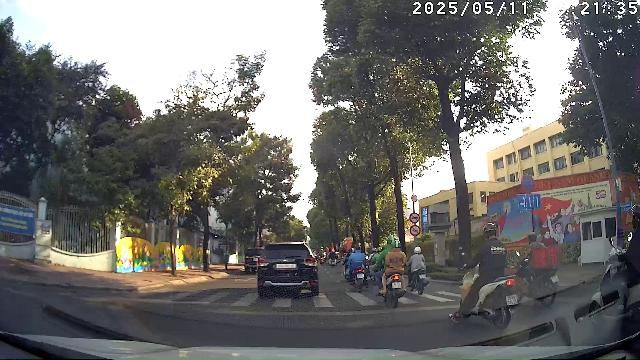128-cam-su-dung-coi: (410, 225, 421, 236)
130-cam-dung-va-do-xe: (521, 175, 535, 193)
